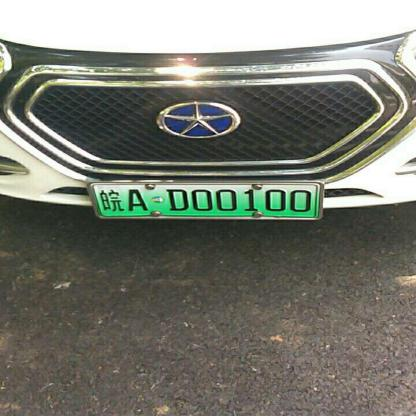lp: (90, 184, 317, 217)
